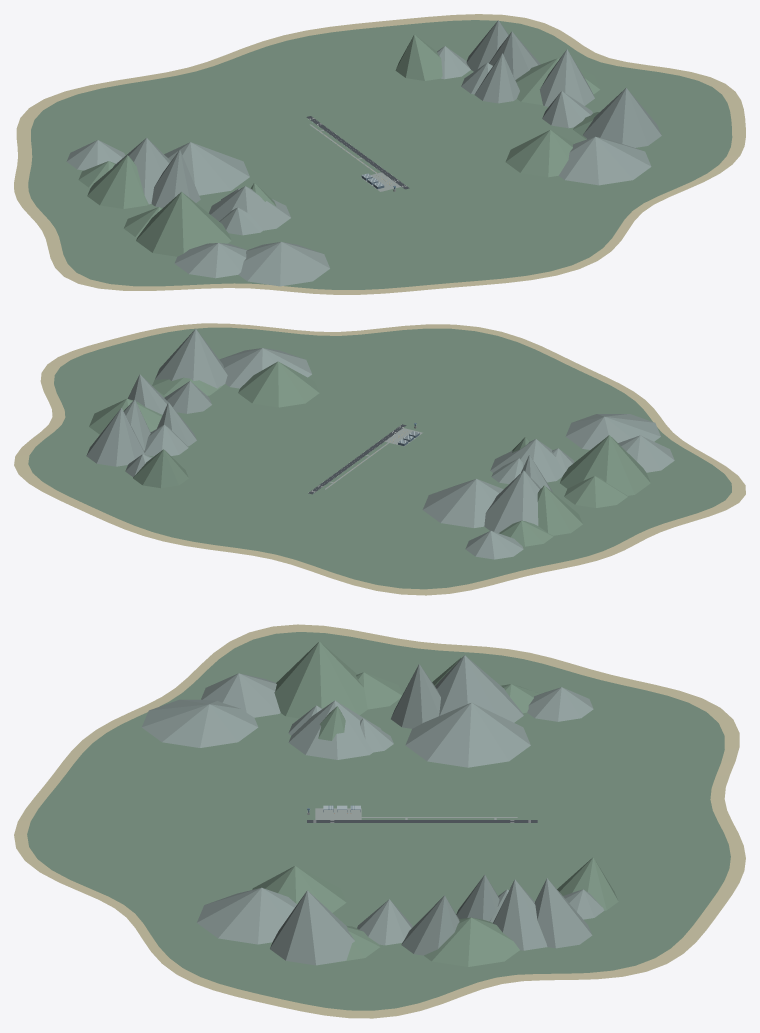
Rendered from island-airfield.glb.
The picture shows the model from 3 angles, top to bottom: view 1: azimuth 30°, elevation 25°; view 2: azimuth 150°, elevation 25°; view 3: azimuth 270°, elevation 25°; orthographic projection. The views are drawn at different scales.
Parts seen in each view (by area): view 1: COLLIDE_Island, Beach_shore, COLLIDE_Mountain, COLLIDE_Mountain.018, COLLIDE_Mountain.010, COLLIDE_Mountain.021, COLLIDE_Mountain.002, COLLIDE_Mountain.023, COLLIDE_Mountain.003, COLLIDE_Mountain.001, COLLIDE_Mountain.007, COLLIDE_Mountain.025 (+15 smaller); view 2: COLLIDE_Island, Beach_shore, COLLIDE_Mountain, COLLIDE_Mountain.002, COLLIDE_Mountain.023, COLLIDE_Mountain.021, COLLIDE_Mountain.010, COLLIDE_Mountain.011, COLLIDE_Mountain.019, COLLIDE_Mountain.018, COLLIDE_Mountain.003, COLLIDE_Mountain.007 (+14 smaller); view 3: COLLIDE_Island, Beach_shore, COLLIDE_Mountain.002, COLLIDE_Mountain, COLLIDE_Mountain.010, COLLIDE_Mountain.021, COLLIDE_Mountain.018, COLLIDE_Mountain.011, COLLIDE_Mountain.026, COLLIDE_Mountain.007, COLLIDE_Mountain.019, COLLIDE_Mountain.001 (+14 smaller).
Boxes of the visible parts, x1=… form: COLLIDE_Island: x1=28, y1=20, x2=732, y2=289; Beach_shore: x1=14, y1=14, x2=745, y2=294; COLLIDE_Mountain: x1=136, y1=192, x2=231, y2=256; COLLIDE_Mountain.018: x1=559, y1=136, x2=651, y2=185; COLLIDE_Mountain.010: x1=238, y1=242, x2=329, y2=286; COLLIDE_Mountain.021: x1=583, y1=87, x2=661, y2=147; COLLIDE_Mountain.002: x1=164, y1=142, x2=249, y2=195; COLLIDE_Mountain.023: x1=505, y1=130, x2=574, y2=177; COLLIDE_Mountain.003: x1=87, y1=155, x2=148, y2=208; COLLIDE_Mountain.001: x1=174, y1=243, x2=247, y2=278; COLLIDE_Mountain.007: x1=209, y1=186, x2=290, y2=230; COLLIDE_Mountain.025: x1=539, y1=49, x2=594, y2=106; COLLIDE_Island: x1=28, y1=327, x2=731, y2=589; Beach_shore: x1=14, y1=323, x2=745, y2=595; COLLIDE_Mountain: x1=560, y1=435, x2=650, y2=495; COLLIDE_Mountain.002: x1=422, y1=479, x2=503, y2=527; COLLIDE_Mountain.023: x1=238, y1=361, x2=319, y2=407; COLLIDE_Mountain.021: x1=155, y1=328, x2=227, y2=388; COLLIDE_Mountain.010: x1=565, y1=414, x2=660, y2=449; COLLIDE_Mountain.011: x1=484, y1=470, x2=540, y2=532; COLLIDE_Mountain.019: x1=86, y1=408, x2=145, y2=466; COLLIDE_Mountain.018: x1=219, y1=348, x2=311, y2=388; COLLIDE_Mountain.003: x1=537, y1=485, x2=582, y2=535; COLLIDE_Mountain.007: x1=490, y1=439, x2=564, y2=482; COLLIDE_Island: x1=27, y1=632, x2=730, y2=1010; Beach_shore: x1=14, y1=624, x2=745, y2=1018; COLLIDE_Mountain.002: x1=405, y1=702, x2=530, y2=767; COLLIDE_Mountain: x1=274, y1=641, x2=367, y2=718; COLLIDE_Mountain.010: x1=141, y1=699, x2=258, y2=747; COLLIDE_Mountain.021: x1=270, y1=890, x2=354, y2=965; COLLIDE_Mountain.018: x1=197, y1=887, x2=296, y2=944; COLLIDE_Mountain.011: x1=435, y1=655, x2=523, y2=722; COLLIDE_Mountain.026: x1=424, y1=917, x2=519, y2=966; COLLIDE_Mountain.007: x1=288, y1=700, x2=381, y2=759; COLLIDE_Mountain.019: x1=534, y1=878, x2=592, y2=948; COLLIDE_Mountain.001: x1=201, y1=673, x2=280, y2=717.
Bounding box in the file's own units: 8901 × 602 × 6987.
